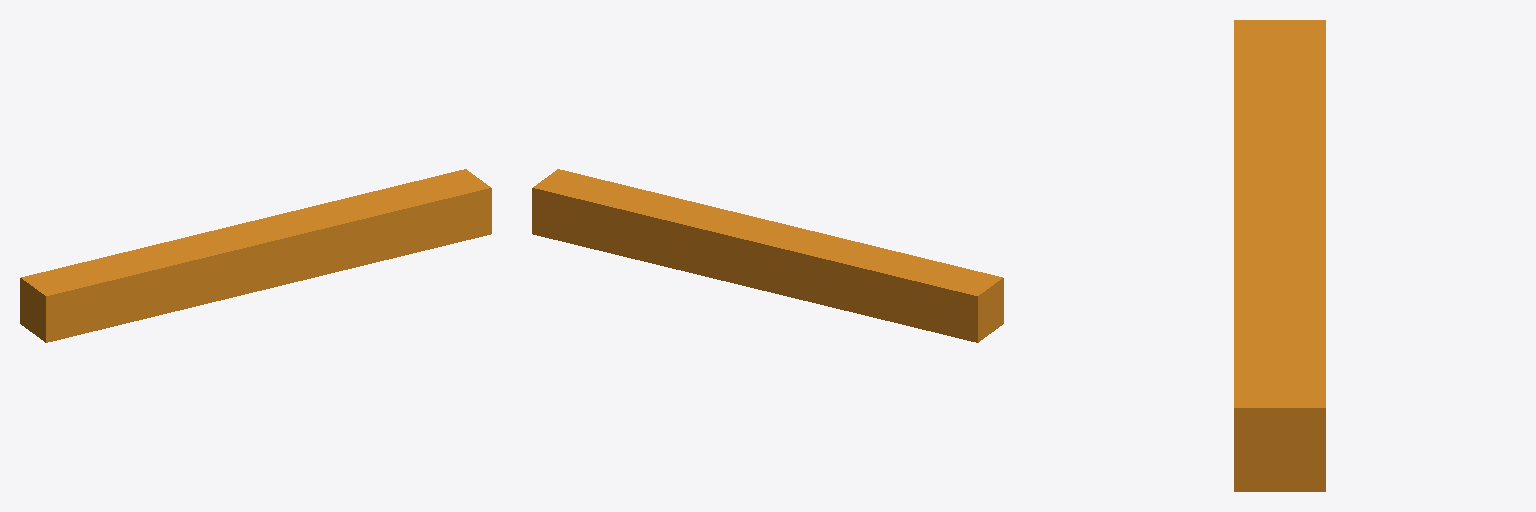
The robot description file, URDF, robot "box_15x150x15cm":
<?xml version="1.0" ?>
<robot name="box_15x150x15cm">
  <link name="box_15x150x15cm_link">
    <inertial>
      <mass value="10"/>
      <origin xyz="0 0 0.075"/>
      <inertia ixx="1" ixy="0" ixz="0" iyy="1" iyz="0" izz="1"/>
    </inertial>
    <visual>
      <origin rpy="0 0 0" xyz="0 0 0"/>
      <geometry>
        <mesh filename="box_15x150x15cm.obj" scale="1.0 1.0 1.0"/>
      </geometry>
      <material name="obstacle">
        <color rgba="0.9 0.6 0.2 0.7"/>
      </material>
    </visual>
    <collision name="box_15x150x15cm">
      <origin rpy="0 0 0" xyz="0 0 0"/>
      <geometry>
        <mesh filename="box_15x150x15cm.obj" scale="1.0 1.0 1.0"/>
      </geometry>
    </collision>
  </link>
</robot>

--- What the picture shows (computed from the rendered views, not written in the file) ---
The picture shows the robot from 3 angles, left to right: view 1: azimuth 30°, elevation 25°; view 2: azimuth 150°, elevation 25°; view 3: azimuth 270°, elevation 25°; orthographic projection.
Model box_15x150x15cm with 1 links and 0 joints (none), rooted at box_15x150x15cm_link, posed every joint at zero.
Visible links, largest first — view 1: box_15x150x15cm_link; view 2: box_15x150x15cm_link; view 3: box_15x150x15cm_link.
Boxes of the visible links, <box> form: box_15x150x15cm_link: <box>20,169,491,342</box>; box_15x150x15cm_link: <box>532,169,1003,342</box>; box_15x150x15cm_link: <box>1234,20,1325,491</box>.
Size in the robot's own frame: 1.5 by 0.15 by 0.15 metres.
Meshes: 1 distinct files referenced, 1 mesh visuals loaded (1 OBJ).
